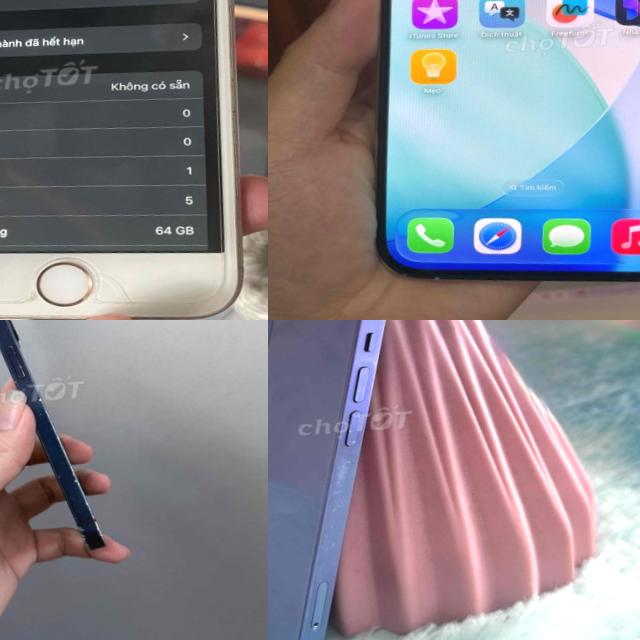scratch: (0, 320, 124, 570)
screen_defect: (91, 254, 156, 316)
